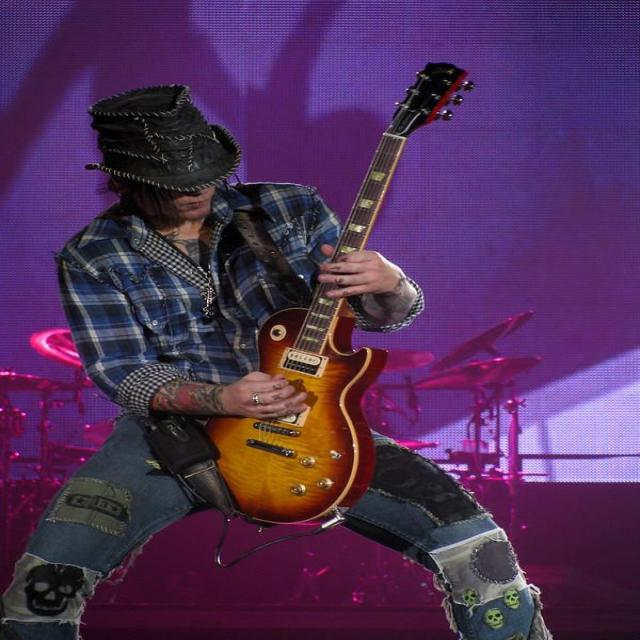guitar: (206, 284, 386, 523)
